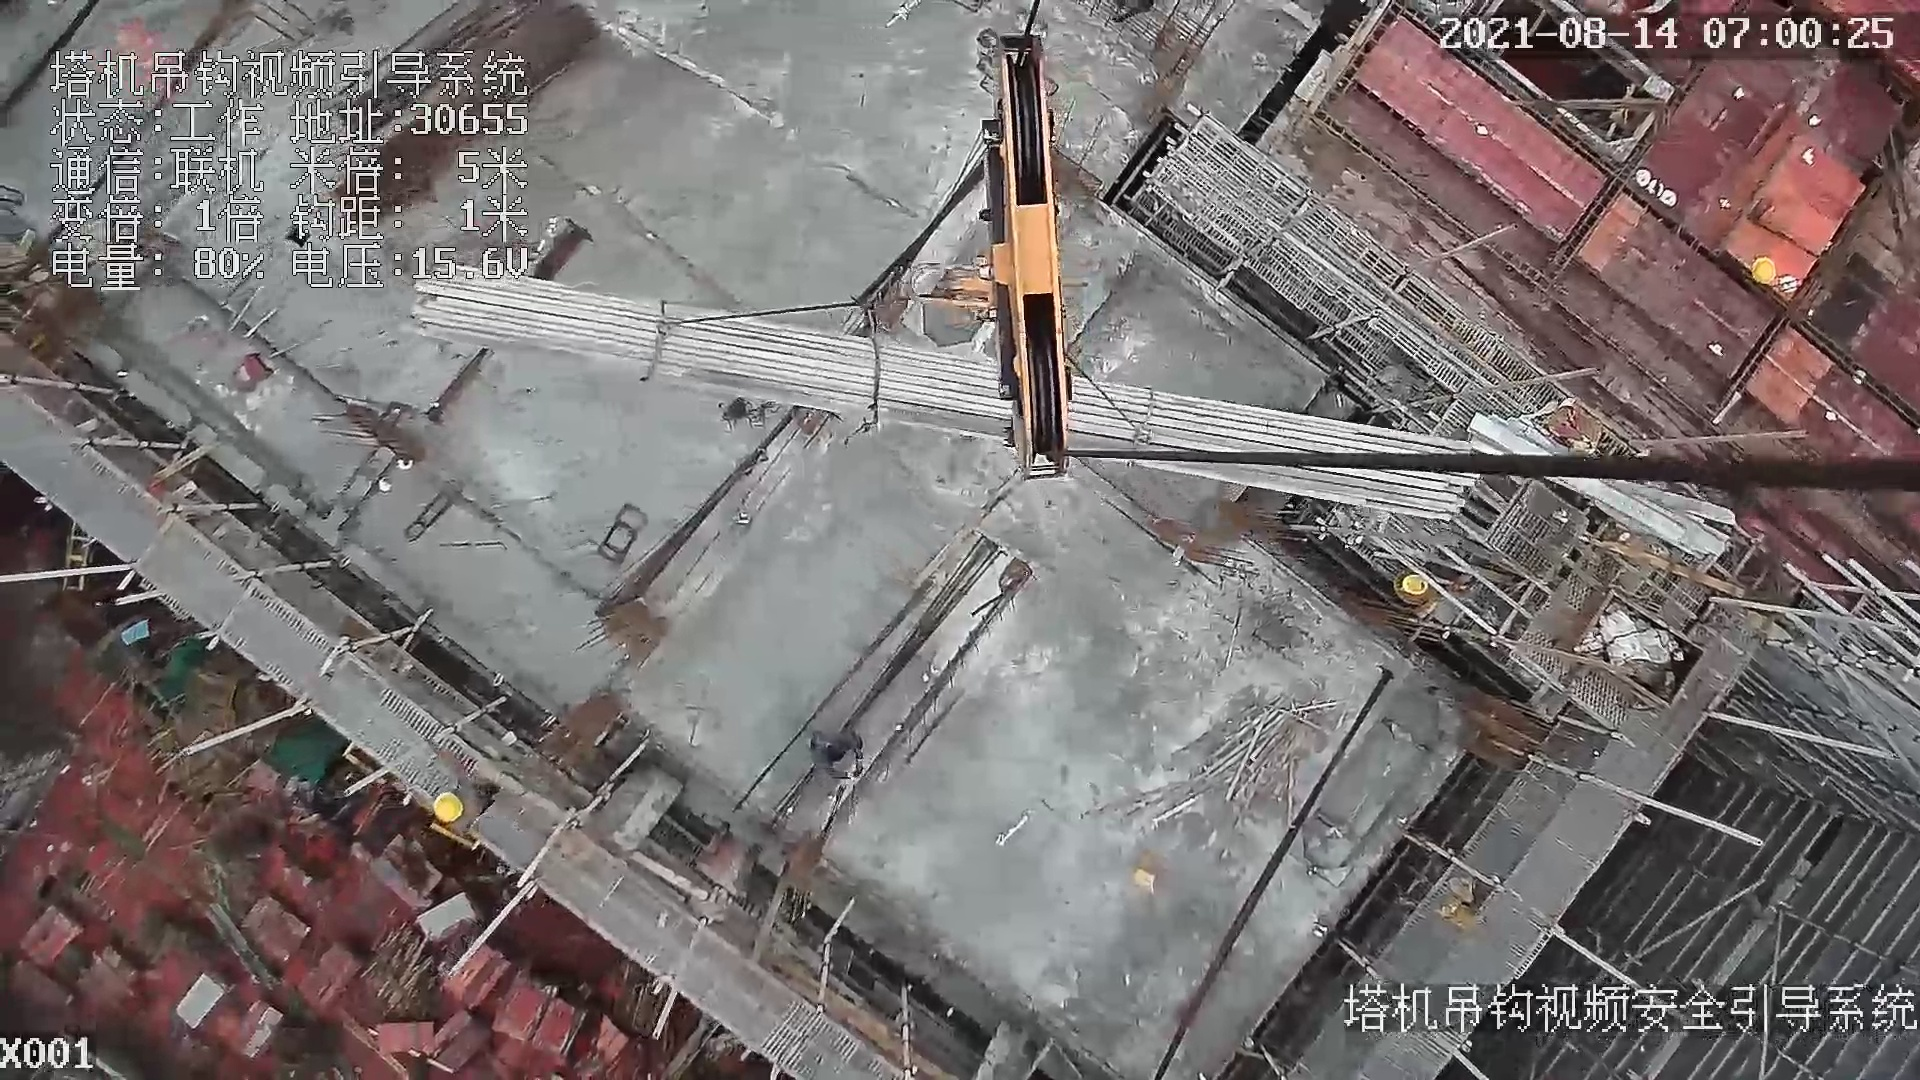helmet: (433, 791, 464, 823), (1750, 258, 1776, 283), (1403, 573, 1428, 595)
hook: (977, 30, 1082, 483)
person: (436, 768, 512, 841), (806, 728, 877, 796)
rebar: (429, 281, 1481, 531)
